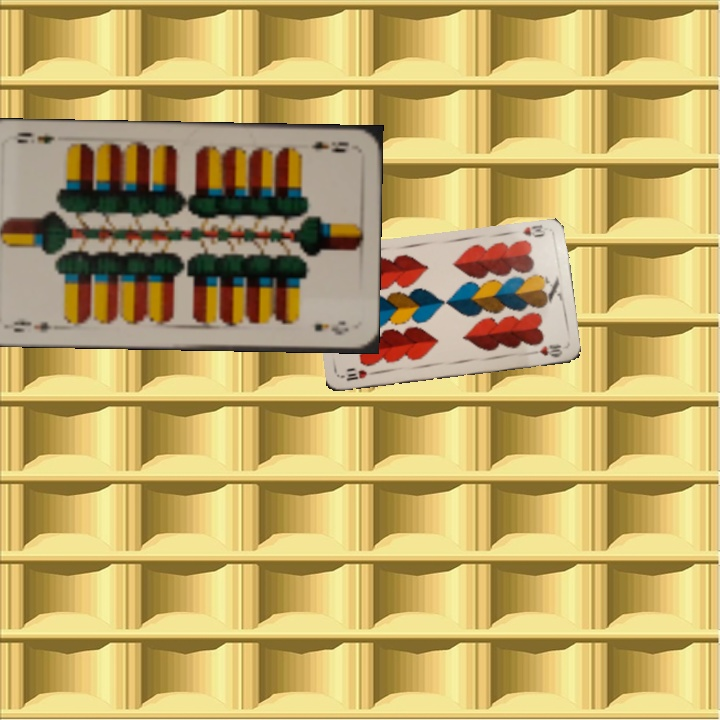E9: (9, 316, 54, 335), (307, 137, 351, 156)
H10: (342, 366, 379, 383), (518, 221, 550, 240)
